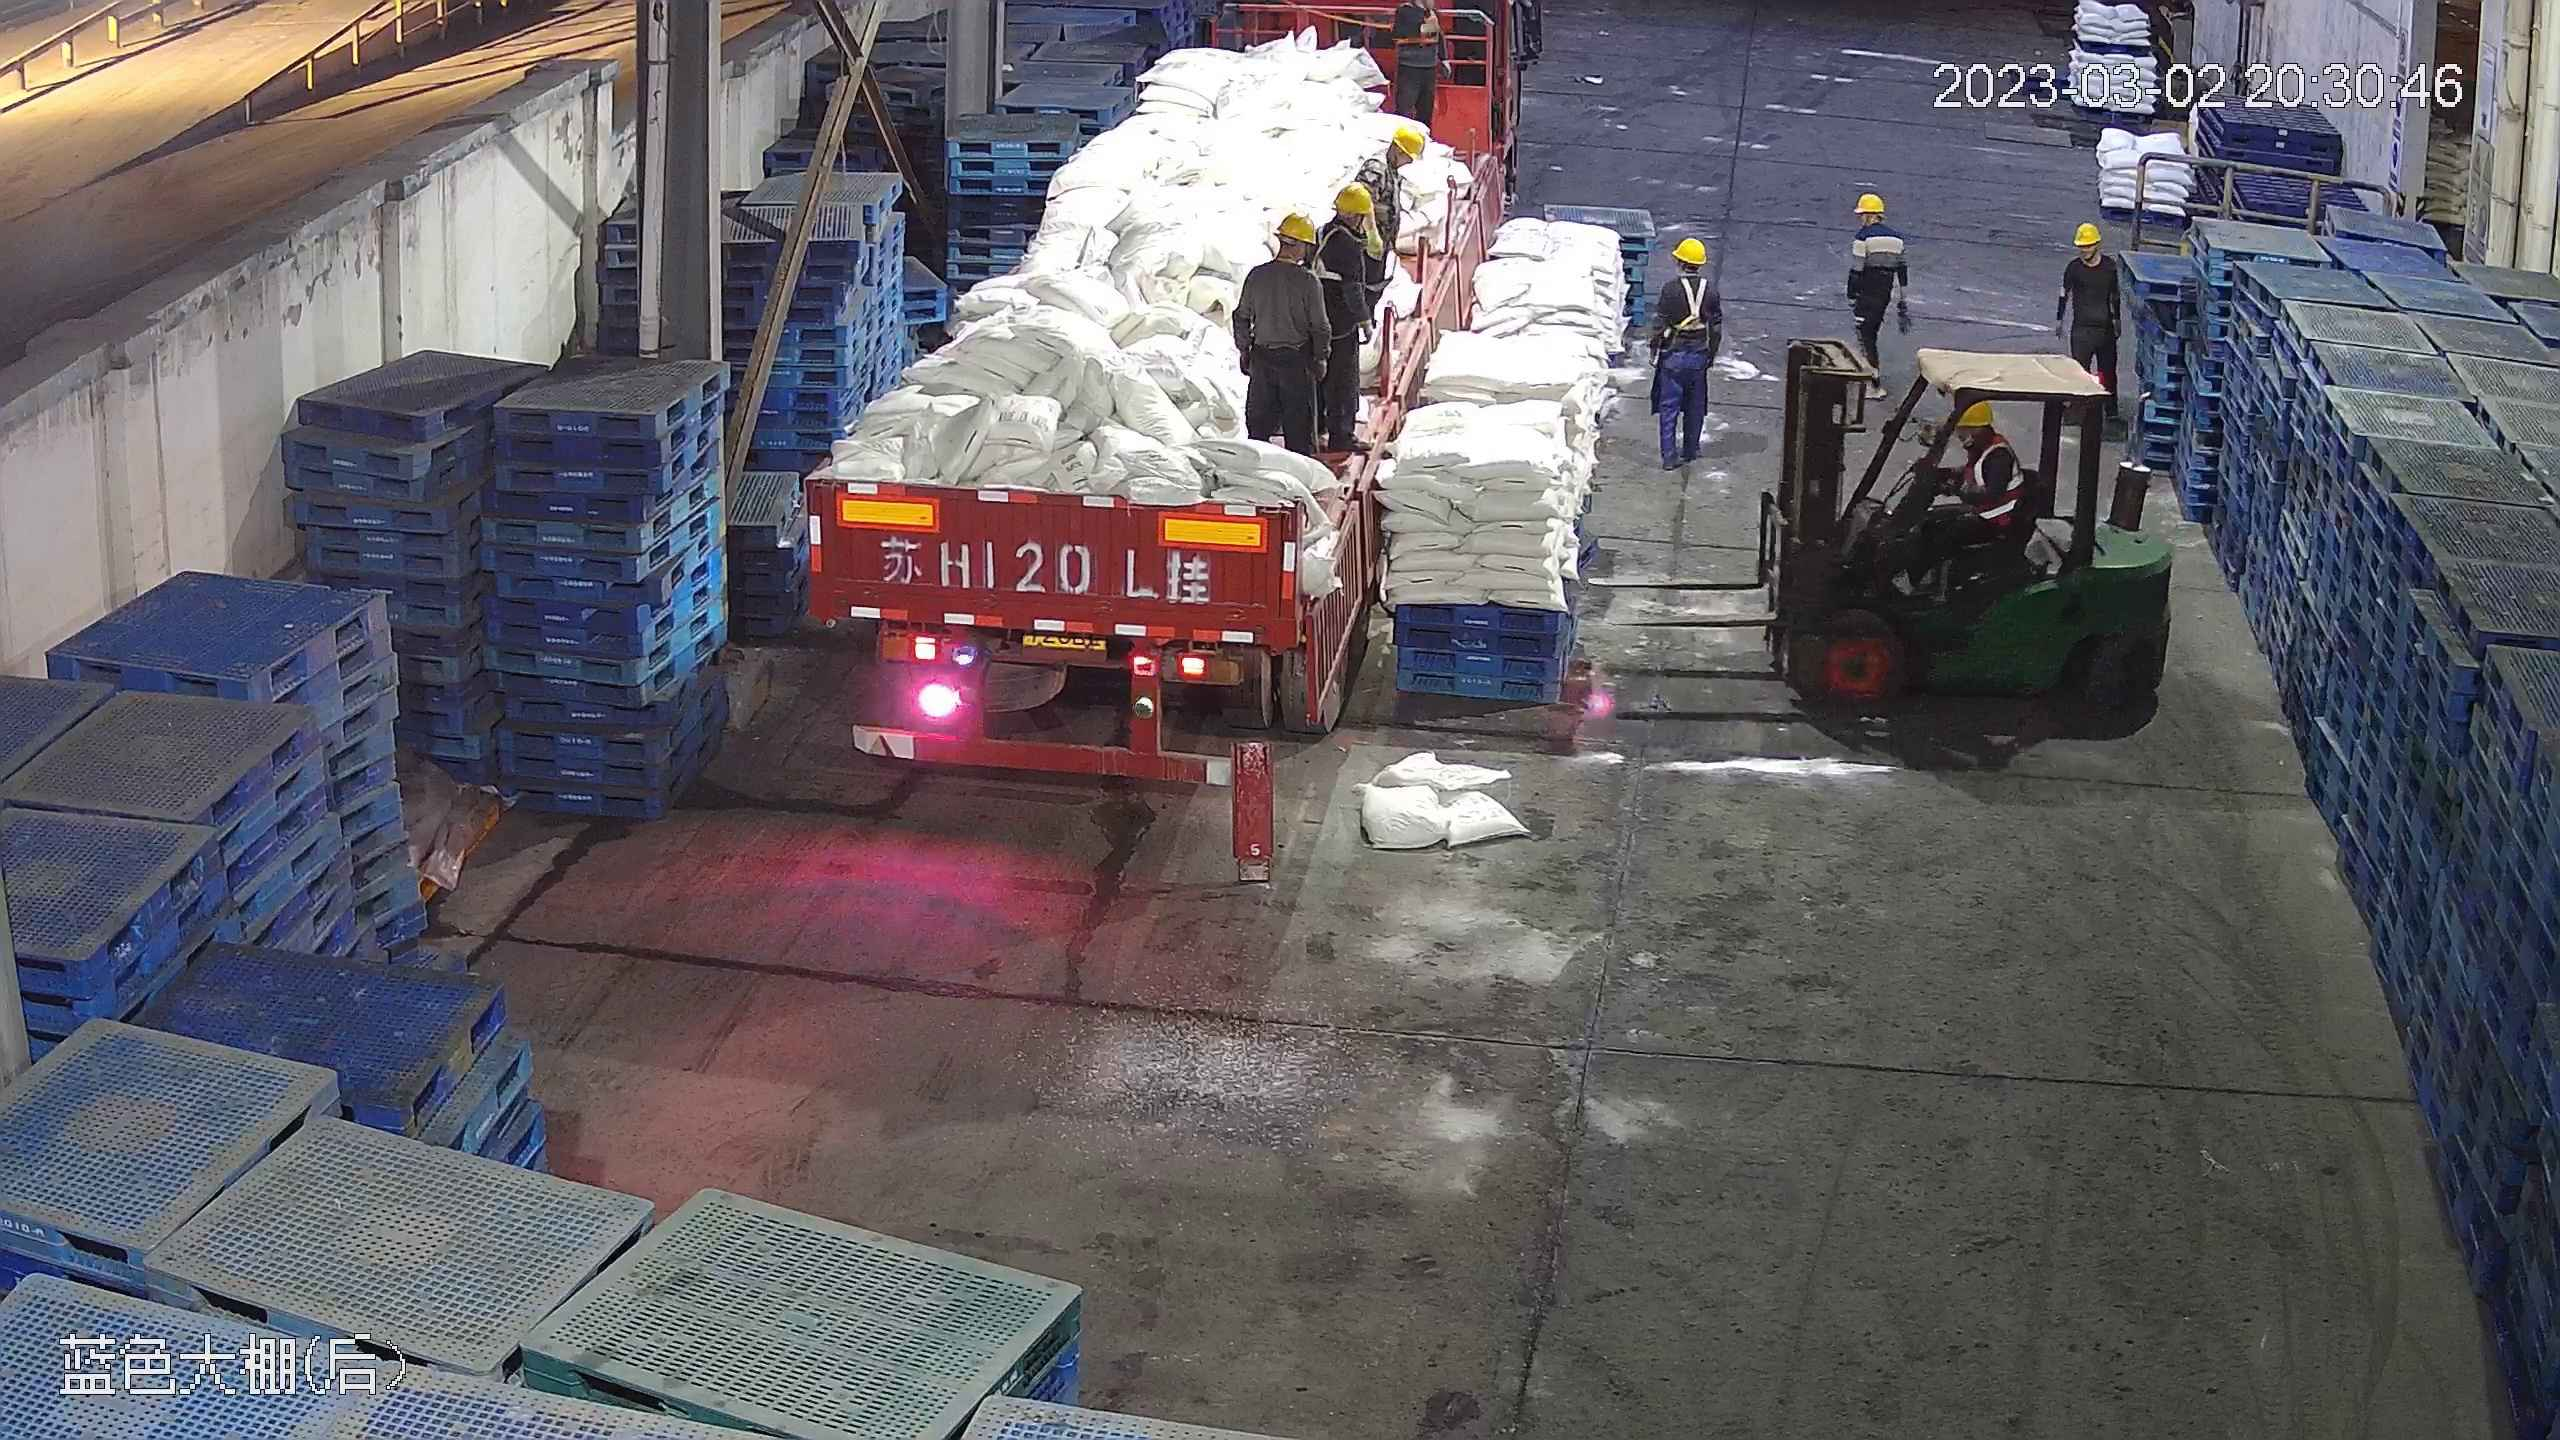belt: (1667, 274, 1713, 330), (1388, 7, 1442, 51), (1310, 223, 1346, 284), (1384, 162, 1402, 222)
head: (1244, 208, 1328, 295), (1945, 396, 2020, 480), (1316, 190, 1385, 268), (1354, 120, 1419, 192), (1658, 236, 1717, 306), (2063, 219, 2121, 285), (1850, 191, 1903, 253)
helmet: (1271, 210, 1317, 244), (1953, 398, 1997, 429), (1333, 182, 1375, 213), (1391, 123, 1424, 158), (1671, 236, 1707, 262), (2071, 220, 2102, 244), (1856, 191, 1883, 213)
people: (1231, 208, 1330, 451), (1904, 394, 2028, 586), (1305, 183, 1385, 449), (1645, 233, 1722, 468), (2057, 219, 2127, 403), (1846, 191, 1910, 382), (1388, 1, 1452, 136)
truck: (795, 15, 1482, 773)
